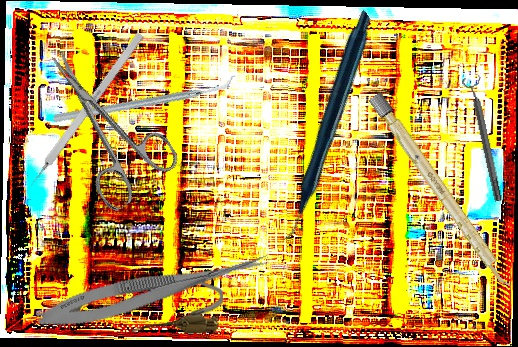Cannula: (53, 274, 224, 337)
Chopper: (52, 37, 236, 161)
Fixation Ring: (461, 74, 508, 204)
Handpiece: (200, 9, 447, 242)
Hook Surgical: (22, 31, 145, 196)
Iris Scissors: (22, 29, 186, 214)
Micro Scissor: (33, 238, 273, 339)
Scalpel Handle: (368, 91, 515, 292)
